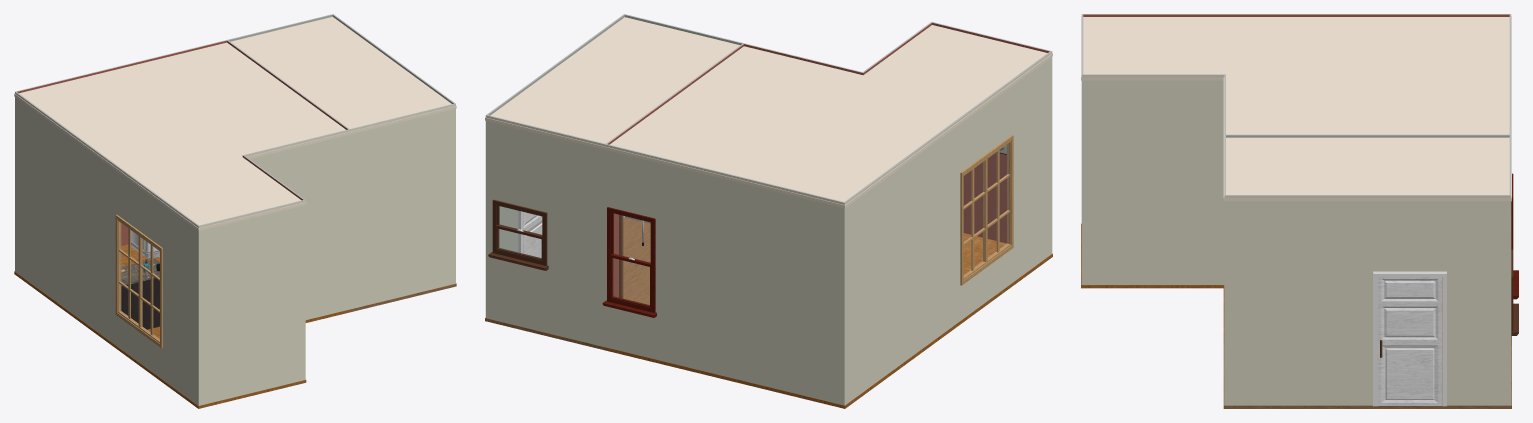
Rendered from ProcTHOR-Train-76.glb.
The picture shows the model from 3 angles, left to right: view 1: azimuth 30°, elevation 25°; view 2: azimuth 150°, elevation 25°; view 3: azimuth 270°, elevation 25°; orthographic projection. The views are drawn at different scales.
Visible parts, largest first — view 1: Ceiling#room|2|c, WallInside#wall|exterior|6.08|0.00|6.08|6.08, WallInside#wall|exterior|4.06|6.08|6.08|6.08, WallInside#wall|exterior|0.00|4.06|2.03|4.06, Ceiling#room|3|c, WallInside#wall|exterior|2.03|4.06|4.06|4.06, Window_Fixed_60x72, Countertop_L_10x4, Floor#room|2|f, WallInside#wall|2|2.03|0.00|6.08|0.00; view 2: WallInside#wall|exterior|2.03|0.00|6.08|0.00, Ceiling#room|2|c, WallInside#wall|exterior|6.08|0.00|6.08|6.08, WallInside#wall|exterior|0.00|0.00|2.03|0.00, Ceiling#room|3|c, Window_Fixed_60x72, WallInside#wall|2|4.06|6.08|6.08|6.08, Floor#room|3|f, Floor#room|2|f, Window_Hung_32x60, Window_Hung_36x32, WallInside#wall|3|0.00|0.00|0.00|4.06 (+2 smaller); view 3: WallInside#wall|exterior|0.00|0.00|0.00|4.06, Ceiling#room|2|c, WallInside#wall|exterior|4.06|4.06|4.06|6.08, Ceiling#room|3|c, Doorway_8, Floor#room|3|f, WallInside#wall|2|6.08|0.00|6.08|6.08, WallInside#wall|3|2.03|0.00|2.03|4.06, Floor#room|2|f, WallInside#wall|exterior|6.08|0.00|6.08|6.08, Window_Hung_36x32.
Part boxes in pixels (x1=…): Ceiling#room|2|c: x1=14, y1=42, x2=350, y2=230; WallInside#wall|exterior|6.08|0.00|6.08|6.08: x1=15, y1=92, x2=198, y2=405; WallInside#wall|exterior|4.06|6.08|6.08|6.08: x1=198, y1=200, x2=305, y2=405; WallInside#wall|exterior|0.00|4.06|2.03|4.06: x1=349, y1=103, x2=455, y2=309; Ceiling#room|3|c: x1=230, y1=16, x2=456, y2=134; WallInside#wall|exterior|2.03|4.06|4.06|4.06: x1=244, y1=129, x2=350, y2=319; Window_Fixed_60x72: x1=115, y1=214, x2=162, y2=348; Countertop_L_10x4: x1=121, y1=259, x2=159, y2=329; Floor#room|2|f: x1=14, y1=244, x2=350, y2=408; WallInside#wall|2|2.03|0.00|6.08|0.00: x1=16, y1=40, x2=227, y2=245; WallInside#wall|exterior|2.03|0.00|6.08|0.00: x1=605, y1=144, x2=844, y2=405; Ceiling#room|2|c: x1=604, y1=25, x2=1052, y2=208; WallInside#wall|exterior|6.08|0.00|6.08|6.08: x1=845, y1=51, x2=1052, y2=405; WallInside#wall|exterior|0.00|0.00|2.03|0.00: x1=486, y1=115, x2=606, y2=346; Ceiling#room|3|c: x1=485, y1=17, x2=743, y2=149; Window_Fixed_60x72: x1=960, y1=135, x2=1013, y2=285; WallInside#wall|2|4.06|6.08|6.08|6.08: x1=931, y1=22, x2=1051, y2=243; Floor#room|3|f: x1=485, y1=217, x2=650, y2=350; Floor#room|2|f: x1=604, y1=233, x2=1052, y2=408; Window_Hung_32x60: x1=602, y1=207, x2=656, y2=317; Window_Hung_36x32: x1=488, y1=199, x2=548, y2=270; WallInside#wall|3|0.00|0.00|0.00|4.06: x1=487, y1=15, x2=624, y2=252; WallInside#wall|exterior|0.00|0.00|0.00|4.06: x1=1224, y1=195, x2=1511, y2=405; Ceiling#room|2|c: x1=1081, y1=16, x2=1511, y2=137; WallInside#wall|exterior|4.06|4.06|4.06|6.08: x1=1081, y1=74, x2=1224, y2=284; Ceiling#room|3|c: x1=1223, y1=137, x2=1511, y2=201; Doorway_8: x1=1373, y1=271, x2=1446, y2=406; Floor#room|3|f: x1=1223, y1=345, x2=1511, y2=408; WallInside#wall|2|6.08|0.00|6.08|6.08: x1=1083, y1=14, x2=1510, y2=16; WallInside#wall|3|2.03|0.00|2.03|4.06: x1=1226, y1=135, x2=1509, y2=137; Floor#room|2|f: x1=1081, y1=223, x2=1511, y2=345; WallInside#wall|exterior|6.08|0.00|6.08|6.08: x1=1083, y1=14, x2=1510, y2=14; Window_Hung_36x32: x1=1511, y1=249, x2=1518, y2=335.
Size of what is drawn, in the model's own units: 6.21 by 3.35 by 6.22.
Materials: 118 (38 with a texture image).
